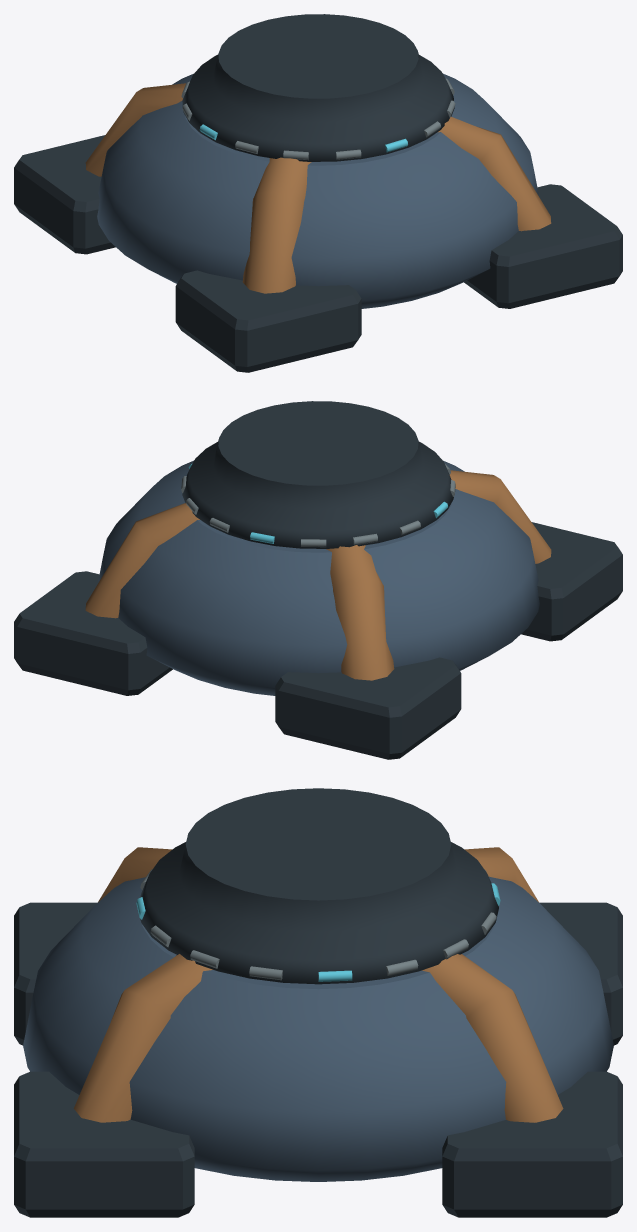
Rendered from mount_ignis.glb.
3 views of the same model, one above another, from view 1: azimuth 30°, elevation 25°; view 2: azimuth 150°, elevation 25°; view 3: azimuth 270°, elevation 25° (orthographic). The views are drawn at different scales.
Visible parts, largest first — view 1: mount_ignis; view 2: mount_ignis; view 3: mount_ignis.
Boxes of the visible parts, x1,y1,x2,y2 form: mount_ignis: (14,14,622,372); mount_ignis: (14,401,622,759); mount_ignis: (14,788,622,1217).
Size of the model in its own units: 5.58 by 2.6 by 5.73.
